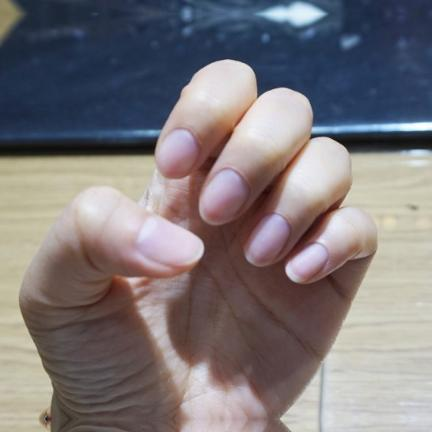Nail: (136, 216, 203, 267), (199, 167, 250, 223), (245, 212, 290, 264), (156, 128, 201, 177), (286, 242, 328, 282)
